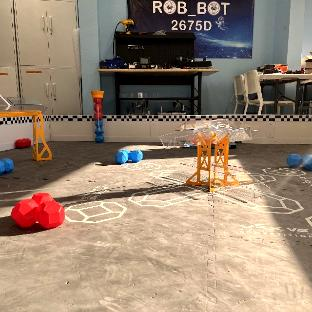Goal: (0, 95, 50, 160)
V5_BLUE: (287, 154, 312, 170), (115, 150, 142, 163), (0, 159, 13, 174)
V5_RED: (11, 193, 64, 229), (91, 91, 103, 141), (16, 138, 31, 148)
